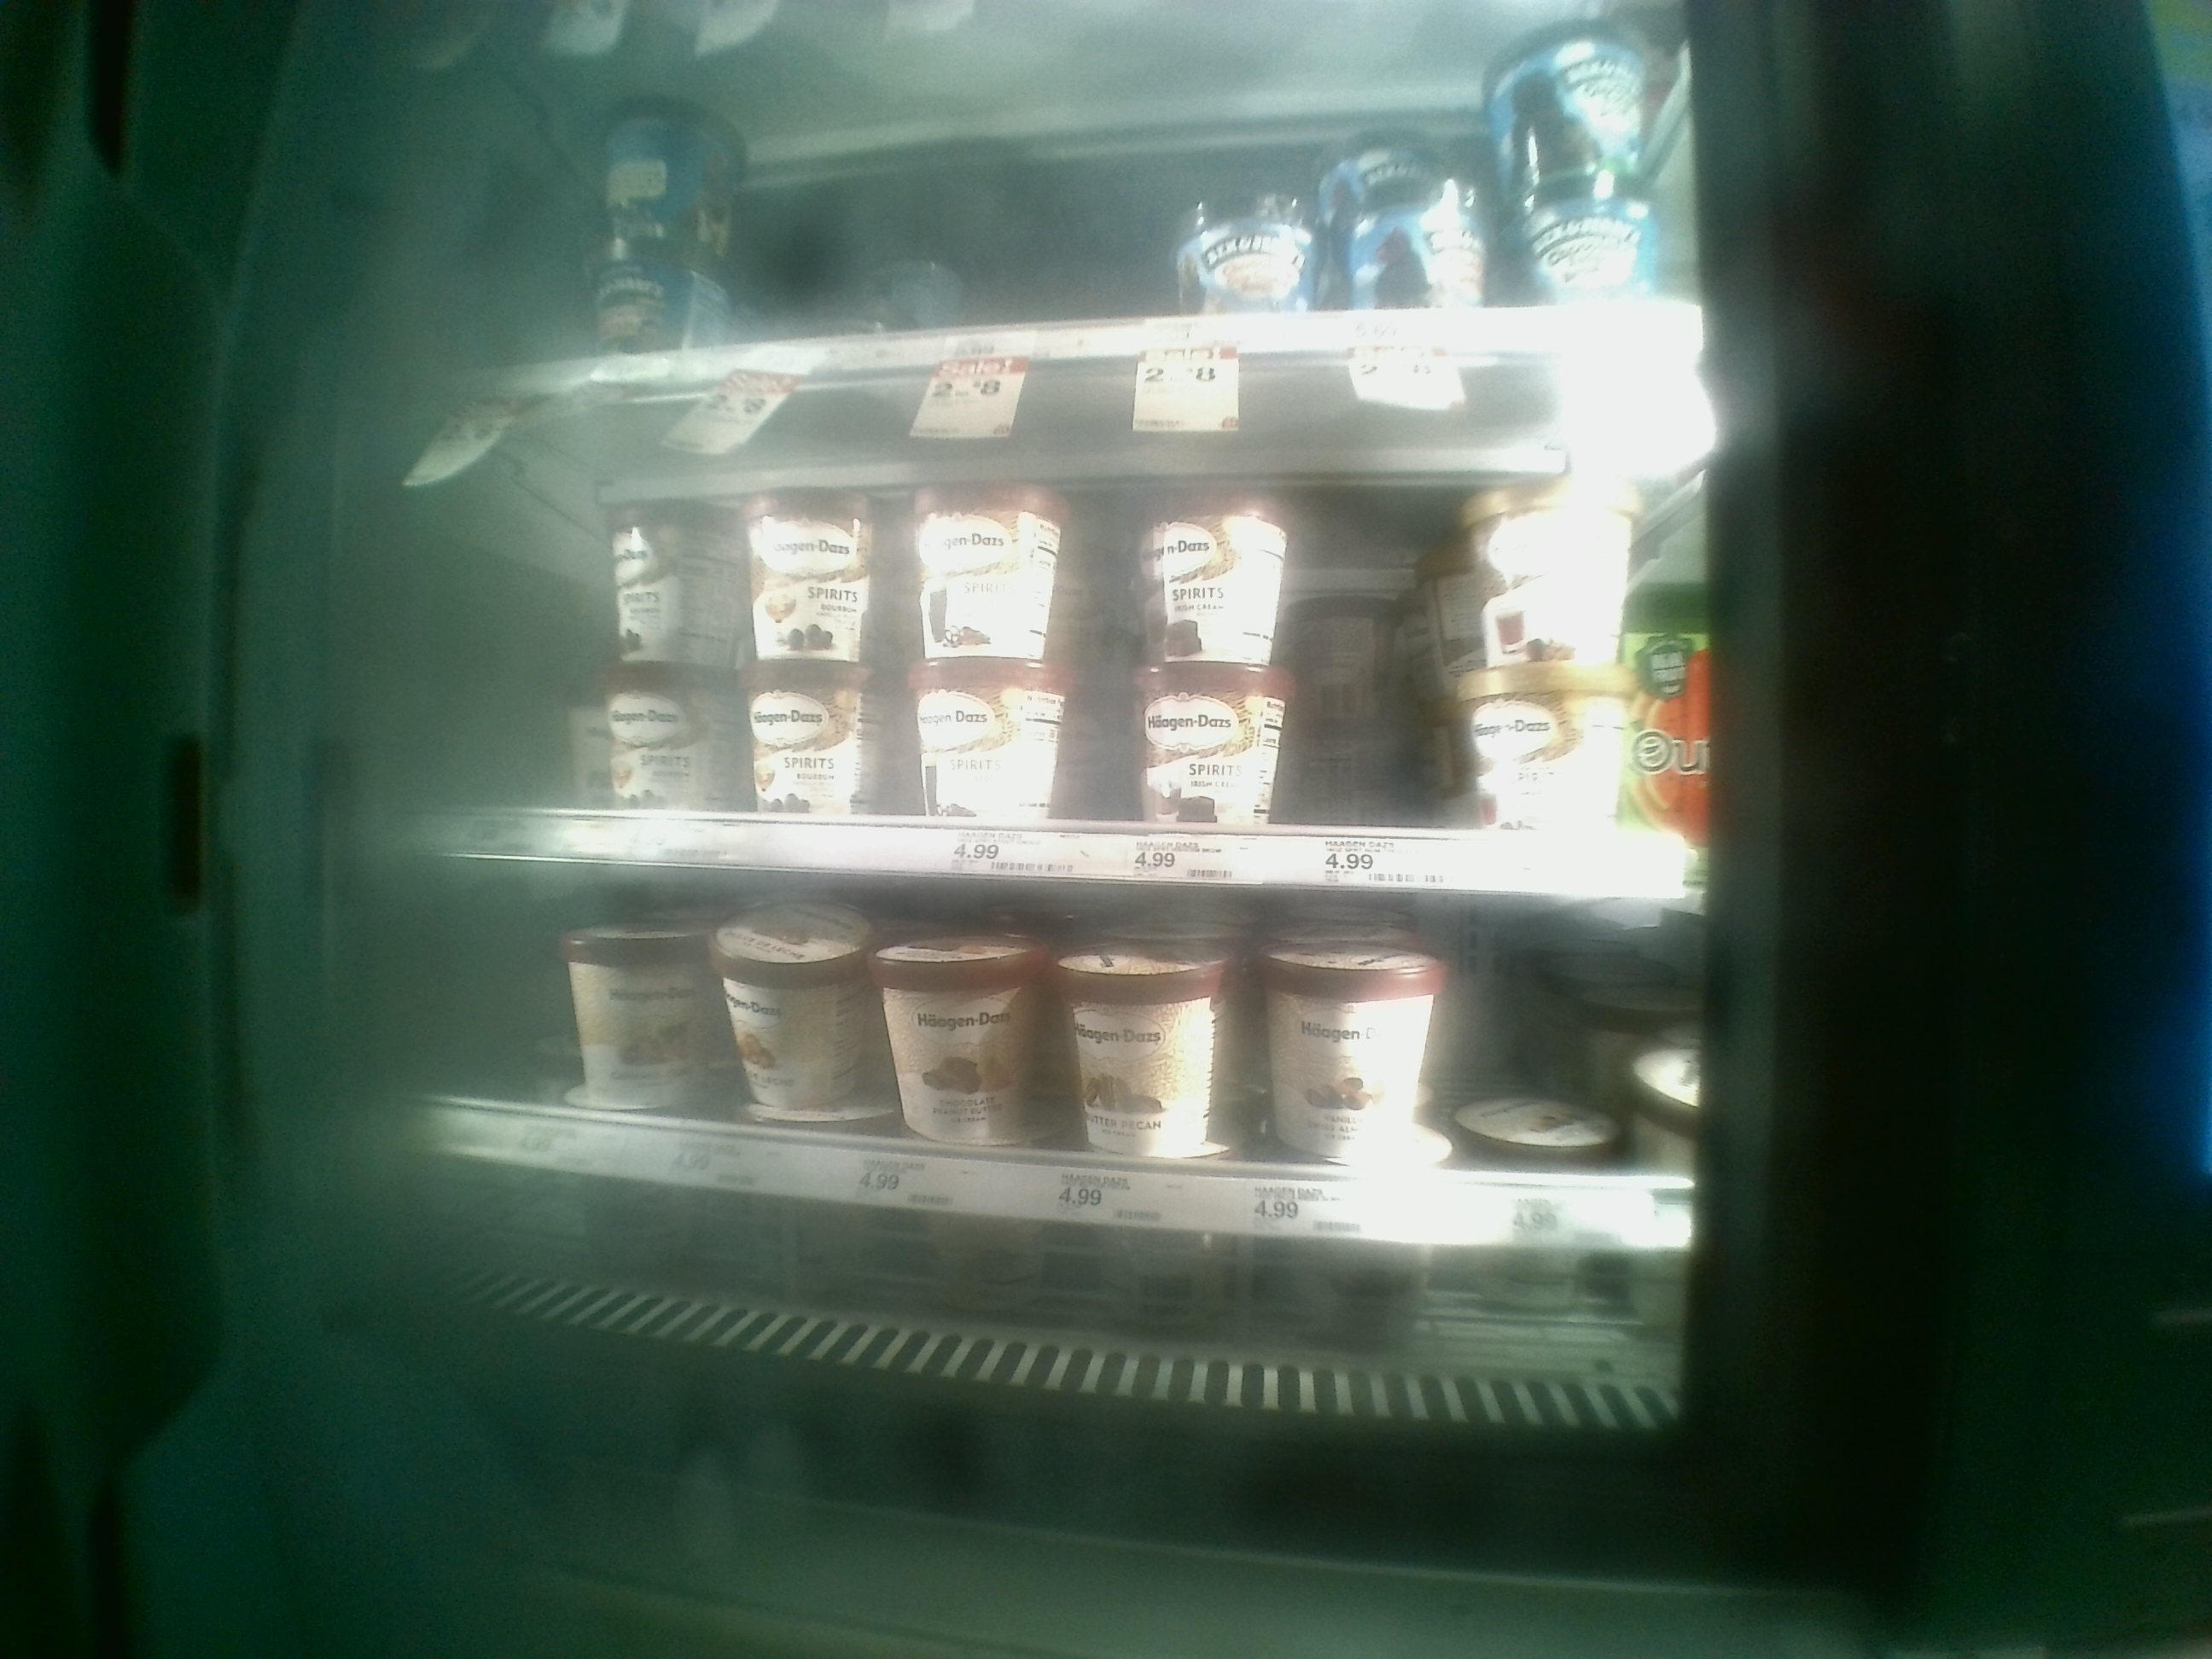shelf: (467, 408, 1721, 889), (465, 868, 1689, 1269)
